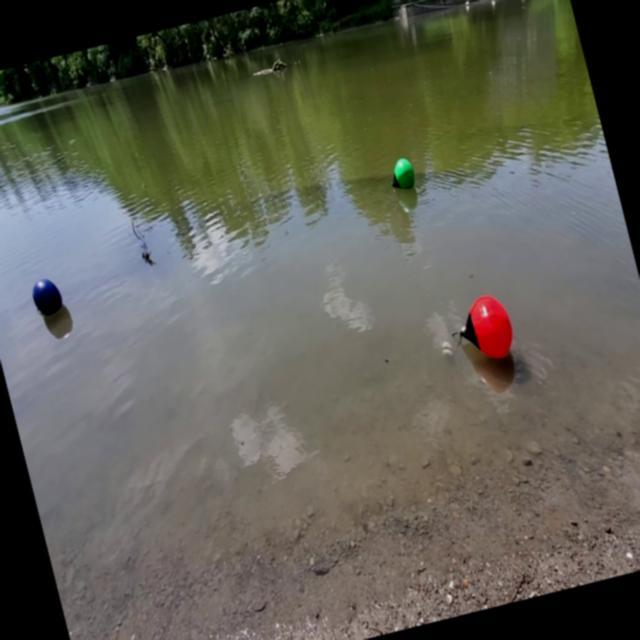buoy: (440, 285, 522, 373), (26, 270, 69, 325), (382, 150, 421, 198)
